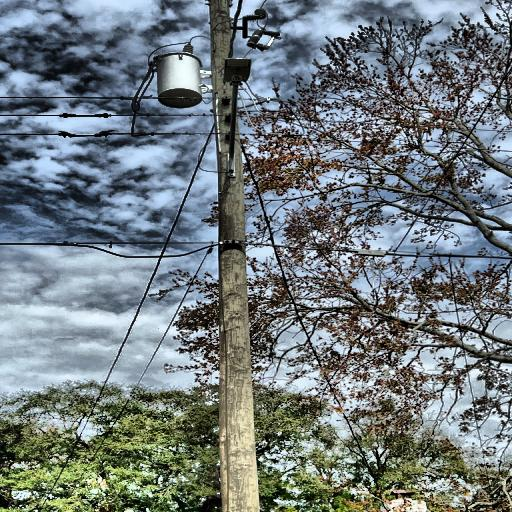pole: (201, 0, 289, 512)
street light: (223, 56, 253, 179)
transformer: (156, 51, 204, 109)
